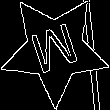M_S: (26, 18, 84, 81)
